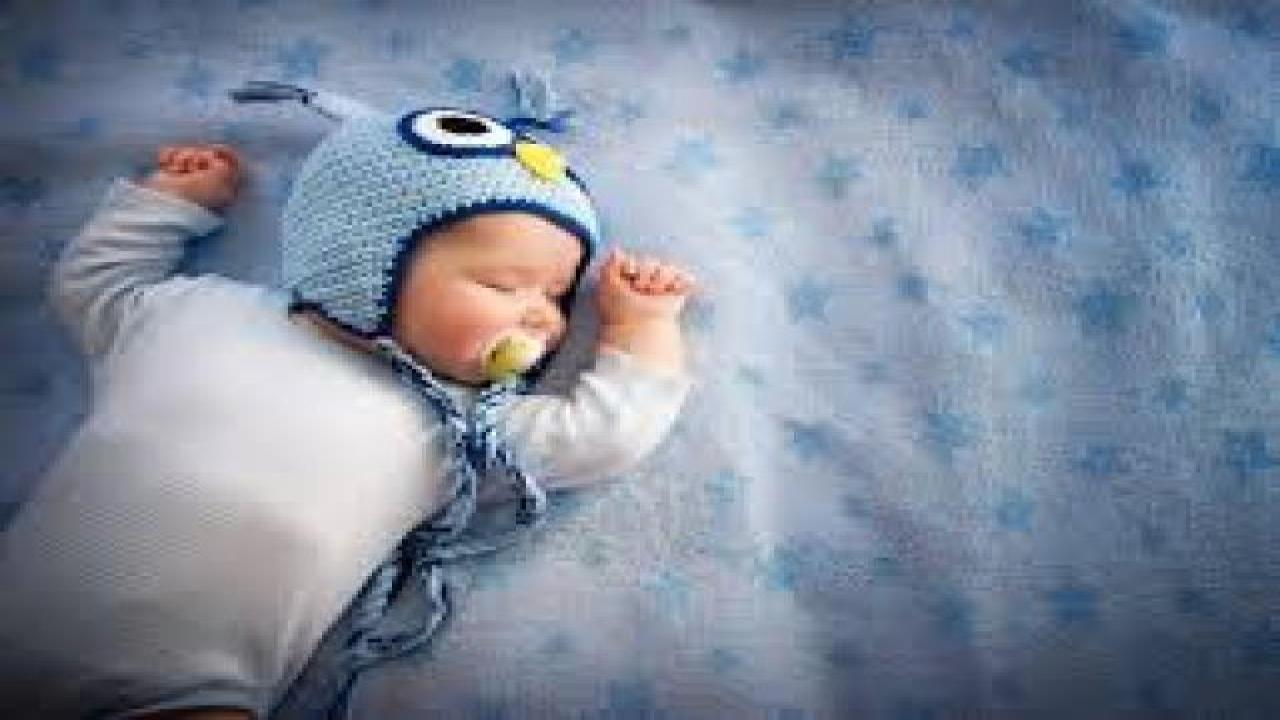hand: (595, 243, 700, 327), (143, 139, 255, 214)
